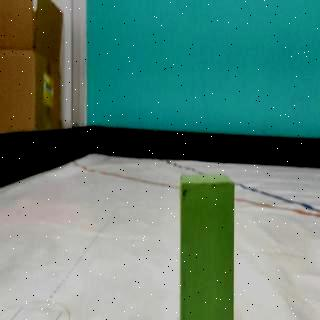greenbox: (178, 174, 236, 320)
